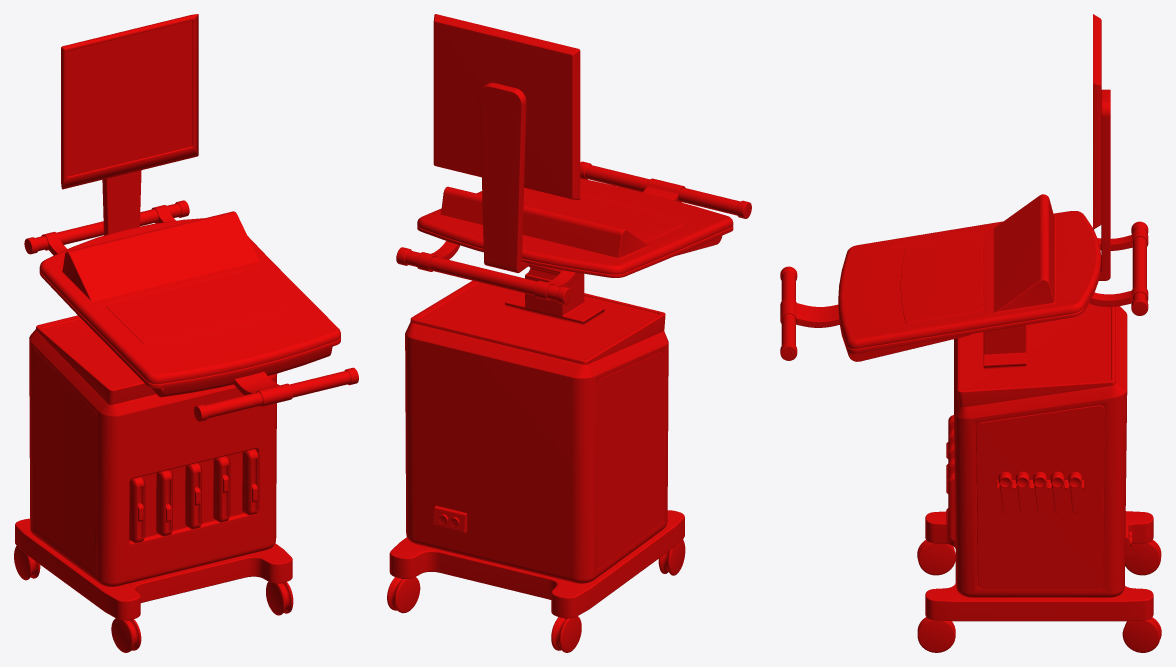
Rendered from Equipment_13.fbx.
3 views of the same model, side by side, from view 1: azimuth 30°, elevation 25°; view 2: azimuth 150°, elevation 25°; view 3: azimuth 270°, elevation 25° (orthographic). The views are drawn at different scales.
Parts seen in each view (by area): view 1: L:polySurface765; view 2: L:polySurface765; view 3: L:polySurface765.
Part boxes in pixels (x1,y1,x2,y2): L:polySurface765: (14, 14, 358, 652); L:polySurface765: (387, 14, 751, 652); L:polySurface765: (780, 14, 1161, 652).
Size of the model in its own units: 67.92 by 176 by 108.
